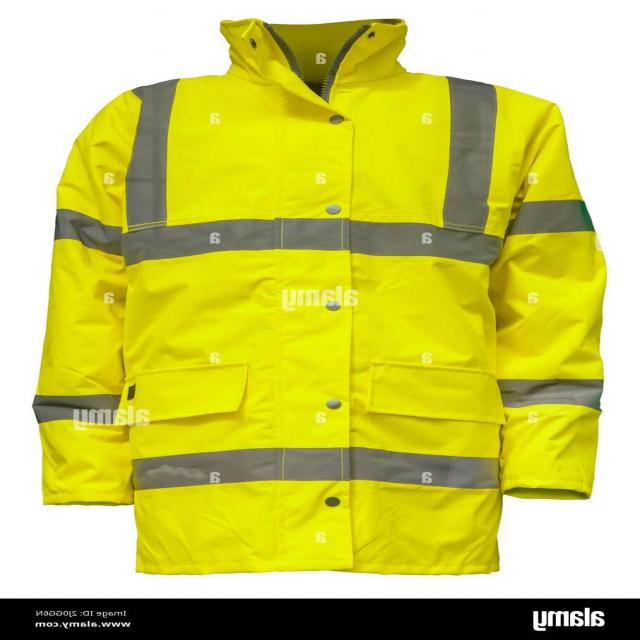Reflective-Jacket: (17, 32, 626, 584)
